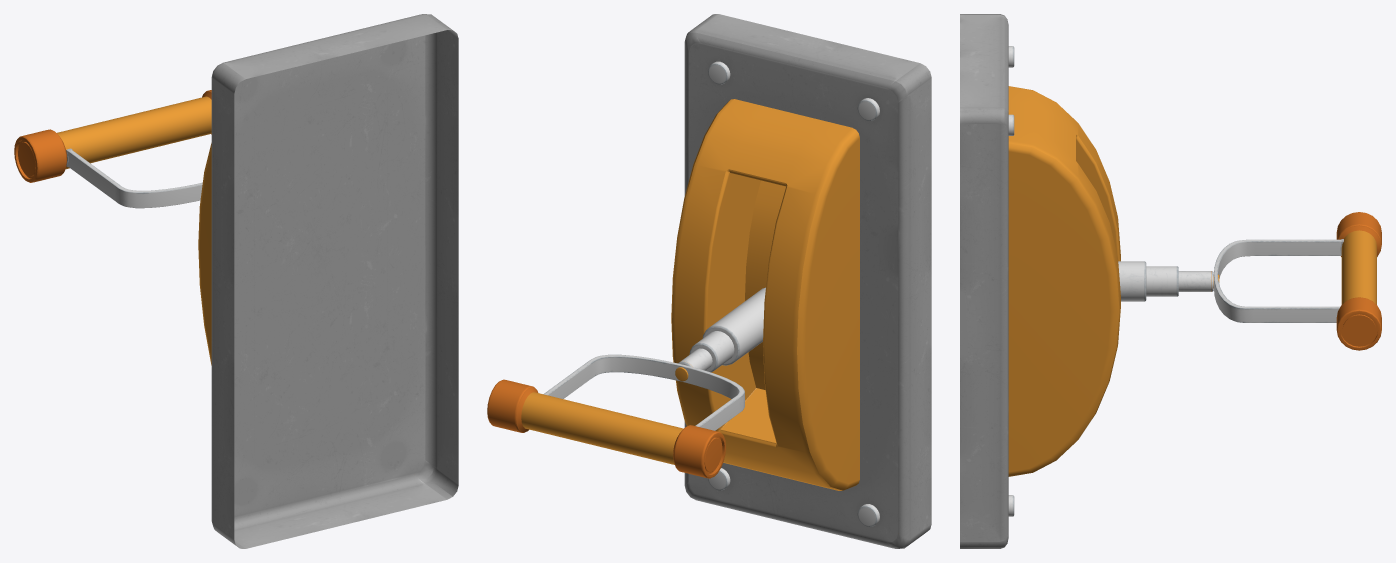
The model's file is LightingLeverVisual.glb.
3 renders of one model, left to right at view 1: azimuth 30°, elevation 25°; view 2: azimuth 150°, elevation 25°; view 3: azimuth 270°, elevation 25°, orthographic. The views are drawn at different scales.
Visible parts, largest first — view 1: New_Lever_base, New_Lever_handle, New_Lever_cover; view 2: New_Lever_cover, New_Lever_base, New_Lever_handle; view 3: New_Lever_cover, New_Lever_base, New_Lever_handle.
Boxes of the visible parts, box(x1,y1,x2,y2) form: New_Lever_base: box(211, 14, 458, 548); New_Lever_handle: box(14, 90, 211, 208); New_Lever_cover: box(198, 143, 211, 365); New_Lever_cover: box(671, 99, 859, 490); New_Lever_base: box(684, 14, 931, 548); New_Lever_handle: box(487, 287, 765, 478); New_Lever_cover: box(1008, 86, 1120, 476); New_Lever_base: box(960, 14, 1008, 548); New_Lever_handle: box(1118, 212, 1381, 350).
Bounding box in the file's own units: 0.225 × 0.45 × 0.3906.
1 material, 1 textured.
